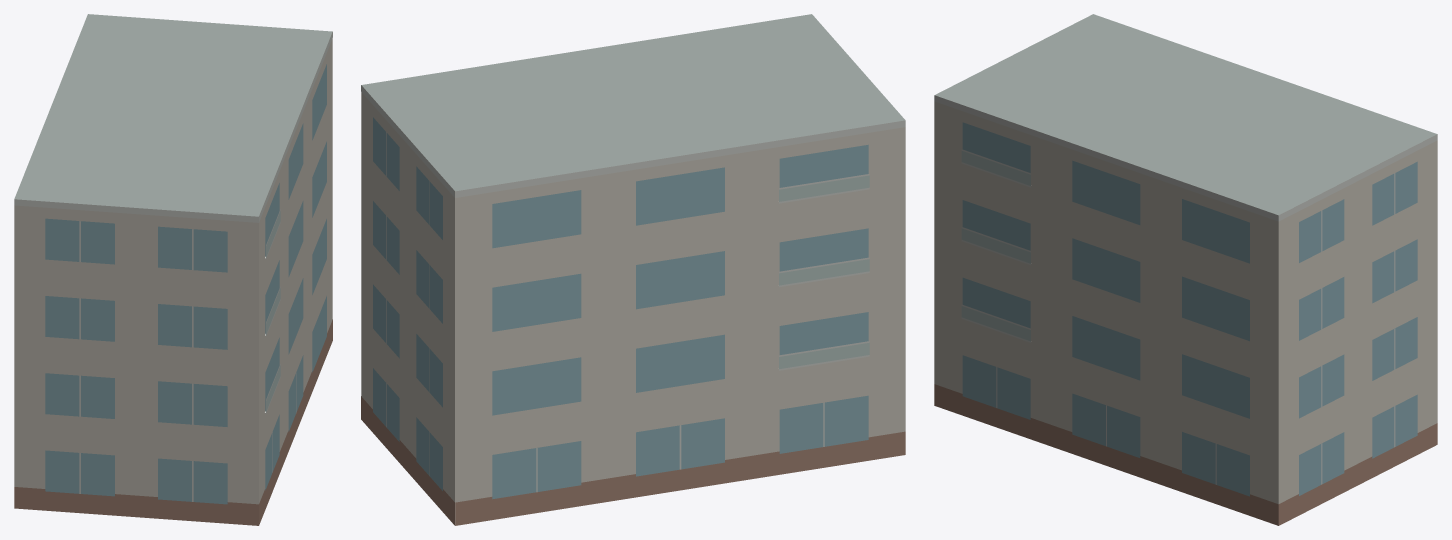
Rendered from residential-739b550b-2a7c-4b24-b45c-e357712e2139.glb.
The picture shows the model from 3 angles, left to right: view 1: azimuth 30°, elevation 25°; view 2: azimuth 150°, elevation 25°; view 3: azimuth 270°, elevation 25°; orthographic projection. The views are drawn at different scales.
Visible parts, largest first — view 1: residential-739b550b-2a7c-4b24-b45c-e357712e2139.tmp; view 2: residential-739b550b-2a7c-4b24-b45c-e357712e2139.tmp; view 3: residential-739b550b-2a7c-4b24-b45c-e357712e2139.tmp.
Boxes of the visible parts, <box> form: residential-739b550b-2a7c-4b24-b45c-e357712e2139.tmp: <box>14,14,332,525</box>; residential-739b550b-2a7c-4b24-b45c-e357712e2139.tmp: <box>361,14,905,525</box>; residential-739b550b-2a7c-4b24-b45c-e357712e2139.tmp: <box>934,14,1437,525</box>.
Bounding box in the file's own units: 16.97 × 12.2 × 17.92.
